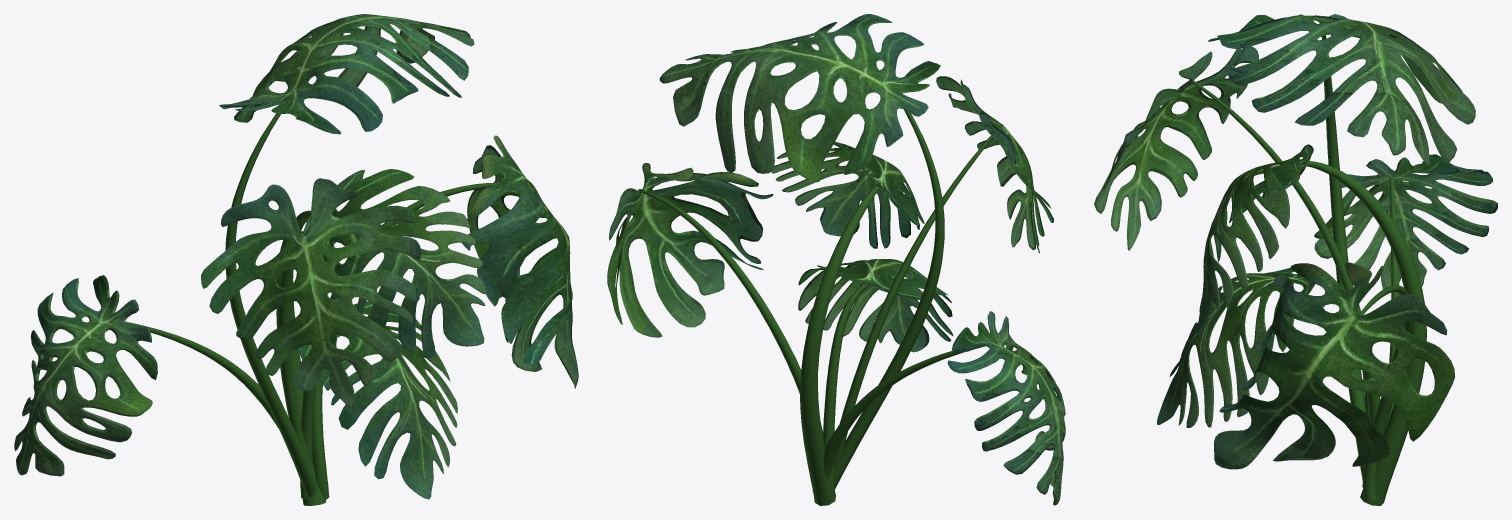
Rendered from Tree-transformed.glb.
3 views of the same model, side by side, from view 1: azimuth 30°, elevation 25°; view 2: azimuth 150°, elevation 25°; view 3: azimuth 270°, elevation 25° (orthographic). The views are drawn at different scales.
Visible parts, largest first — view 1: 6L.004; view 2: 6L.004; view 3: 6L.004.
Boxes of the visible parts, <box> form: 6L.004: <box>14,14,578,505</box>; 6L.004: <box>607,14,1065,505</box>; 6L.004: <box>1094,14,1497,505</box>.
Bounding box in the file's own units: 745 × 666 × 500.
3 materials, 2 textured.
